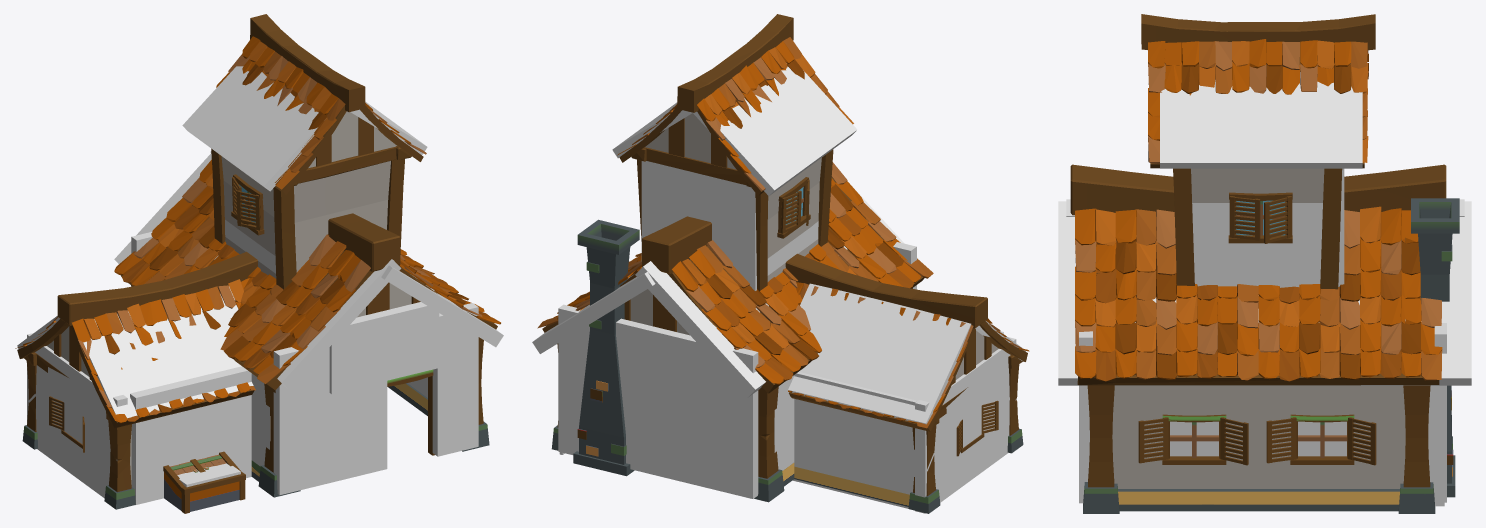
File: house_5.glb
The picture shows the model from 3 angles, left to right: view 1: azimuth 30°, elevation 25°; view 2: azimuth 150°, elevation 25°; view 3: azimuth 270°, elevation 25°; orthographic projection. The views are drawn at different scales.
Visible parts, largest first — view 1: House_05, Cube.003, Cube.013, Cube.017, Cube.010, Cube.002, Cube.009, Cube.007, Cube.006, Cube.005, Cube, Cube.015 (+2 smaller); view 2: House_05, Cube.004, Cube.011, Cube.012, Cube.017, Cube.015, Cube.009, Cube.006, Cube.005, Cube.008, Cube.016; view 3: House_05, Cube.016, Cube.015, Cube.005, Cube.001, Cube.004, Cube.007.
Part boxes in pixels (x1,y1,x2,y2): House_05: (15, 14, 500, 513); Cube.003: (273, 347, 387, 495); Cube.013: (130, 366, 251, 504); Cube.017: (182, 66, 318, 191); Cube.010: (83, 286, 253, 418); Cube.002: (329, 302, 439, 394); Cube.009: (27, 333, 127, 498); Cube.007: (432, 303, 478, 456); Cube.006: (114, 153, 401, 389); Cube.005: (210, 151, 503, 347); Cube: (251, 373, 270, 466); Cube.015: (225, 220, 275, 273); House_05: (537, 14, 1029, 513); Cube.004: (558, 304, 758, 498); Cube.011: (788, 283, 971, 424); Cube.012: (792, 372, 917, 508); Cube.017: (693, 66, 857, 195); Cube.015: (641, 161, 818, 290); Cube.009: (915, 337, 1016, 513); Cube.006: (635, 181, 921, 397); Cube.005: (532, 272, 655, 353); Cube.008: (774, 375, 794, 470); Cube.016: (612, 102, 692, 158); House_05: (1070, 14, 1459, 513); Cube.016: (1160, 72, 1362, 168); Cube.015: (1192, 168, 1344, 287); Cube.005: (1058, 201, 1471, 385); Cube.001: (1088, 385, 1444, 506); Cube.004: (1434, 323, 1446, 502); Cube.007: (1079, 331, 1092, 503).
Size of the model in its own units: 12.87 by 12.35 by 10.63.
1 material, 1 textured.
